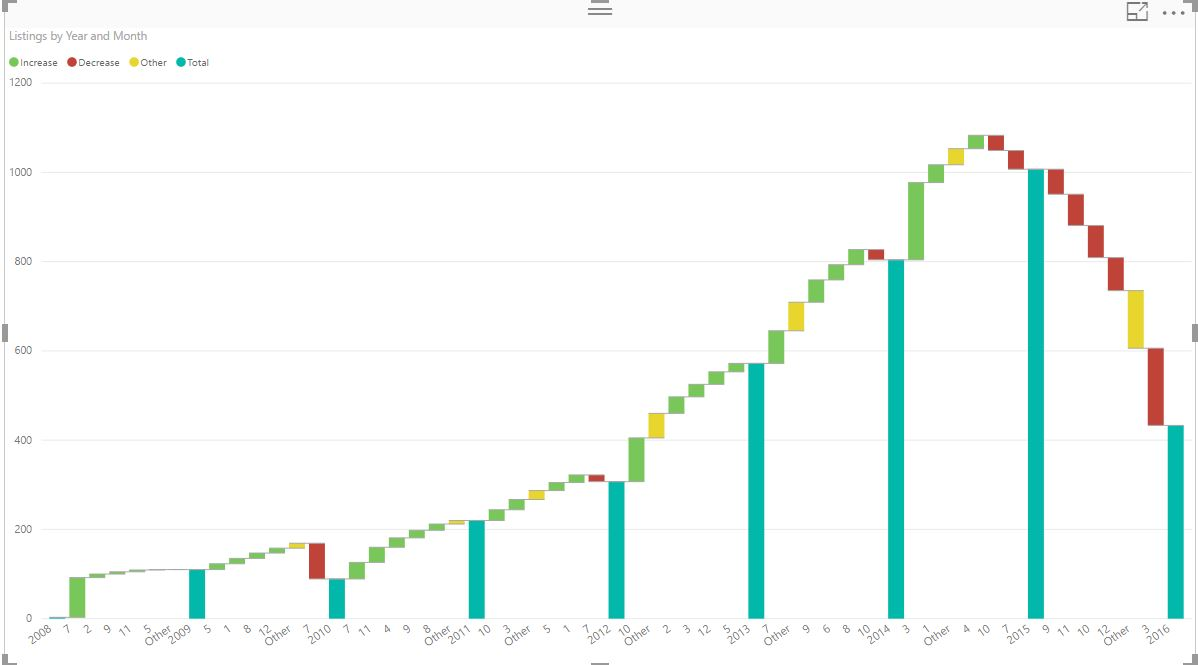

Layout of this report page (visuals, bound fields, positions):
{"tool":"powerbi","page":{"name":"Page 5","canvas":[1280,720],"ordinal":4},"visuals":[{"type":"waterfallChart","fields":{"Category":["HostedSInce-Count.Year"],"Y":["Sum(HostedSInce-Count.Listings)"],"Breakdown":["HostedSInce-Count.Month"]},"box":[15.5,18.6,1233.6,661],"z":1}]}

Visuals, with their boxes on the page's 1280x720 design canvas (x1, y1, x2, y2). These are canvas units, not pixel positions in the 1198x665 screenshot, which may show the page scaled, cropped or inside an application window:
waterfallChart - HostedSInce-Count.Year x Sum(HostedSInce-Count.Listings): <region>16, 19, 1249, 680</region>
